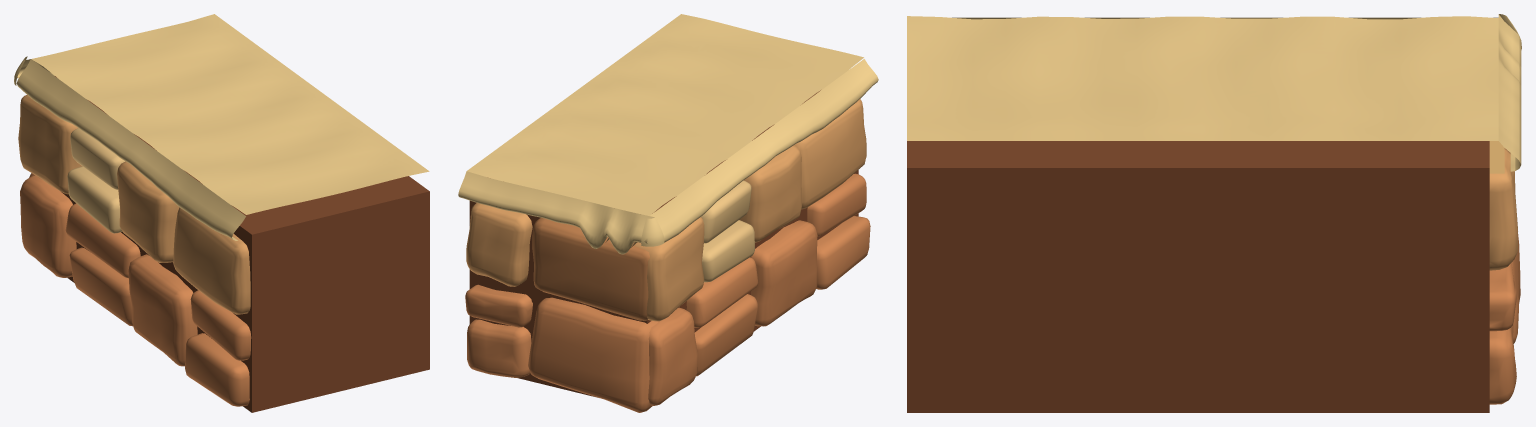
File: SD_G12_Sandstone_End_R.fbx
3 views of the same model, side by side, from view 1: azimuth 30°, elevation 25°; view 2: azimuth 150°, elevation 25°; view 3: azimuth 270°, elevation 25° (orthographic). The views are drawn at different scales.
Visible parts, largest first — view 1: SD_G12_Sandstone_End_R; view 2: SD_G12_Sandstone_End_R; view 3: SD_G12_Sandstone_End_R.
Part boxes in pixels (left/top/right/bottom): SD_G12_Sandstone_End_R: left=14, top=14, right=429, bottom=412; SD_G12_Sandstone_End_R: left=458, top=14, right=878, bottom=412; SD_G12_Sandstone_End_R: left=907, top=14, right=1521, bottom=412.
Size of the model in its own units: 211 by 202 by 410.
